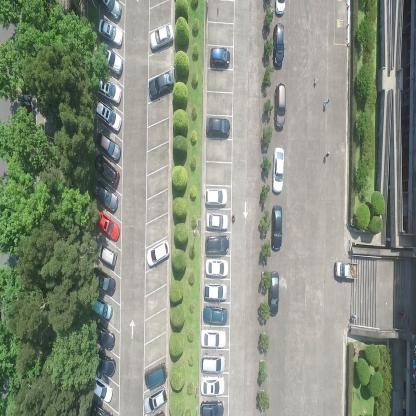car: (93, 154, 120, 190), (96, 128, 122, 163), (91, 179, 118, 212), (148, 69, 174, 103), (95, 100, 122, 132), (146, 236, 171, 269), (93, 210, 120, 240), (98, 44, 123, 76), (143, 359, 168, 390), (91, 266, 116, 297), (149, 22, 175, 51), (98, 18, 124, 47), (90, 322, 116, 351), (96, 77, 122, 104), (143, 386, 168, 414), (89, 294, 114, 321), (93, 374, 114, 403), (205, 116, 231, 139), (93, 352, 116, 378), (274, 81, 286, 130), (272, 146, 284, 195), (200, 328, 226, 350), (203, 304, 228, 326), (200, 352, 225, 374), (271, 204, 282, 252), (268, 270, 279, 318), (334, 258, 358, 280), (96, 241, 117, 266), (200, 376, 226, 396), (273, 22, 284, 68), (206, 234, 229, 255), (204, 187, 228, 207), (209, 46, 230, 68), (205, 210, 228, 230), (205, 258, 229, 277), (204, 281, 227, 300), (99, 0, 122, 19), (200, 400, 224, 416), (90, 402, 115, 416), (274, 0, 287, 18)
